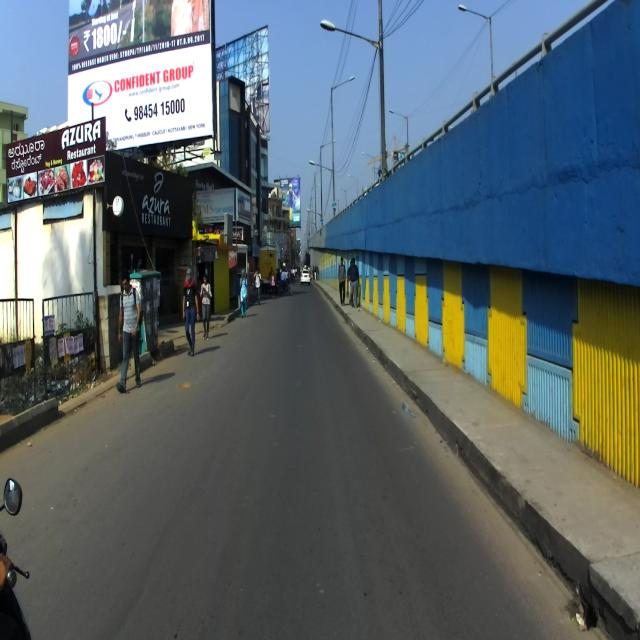gate ahead at: (40, 287, 102, 395)
person ahead at: (112, 265, 148, 398), (178, 265, 203, 360)
